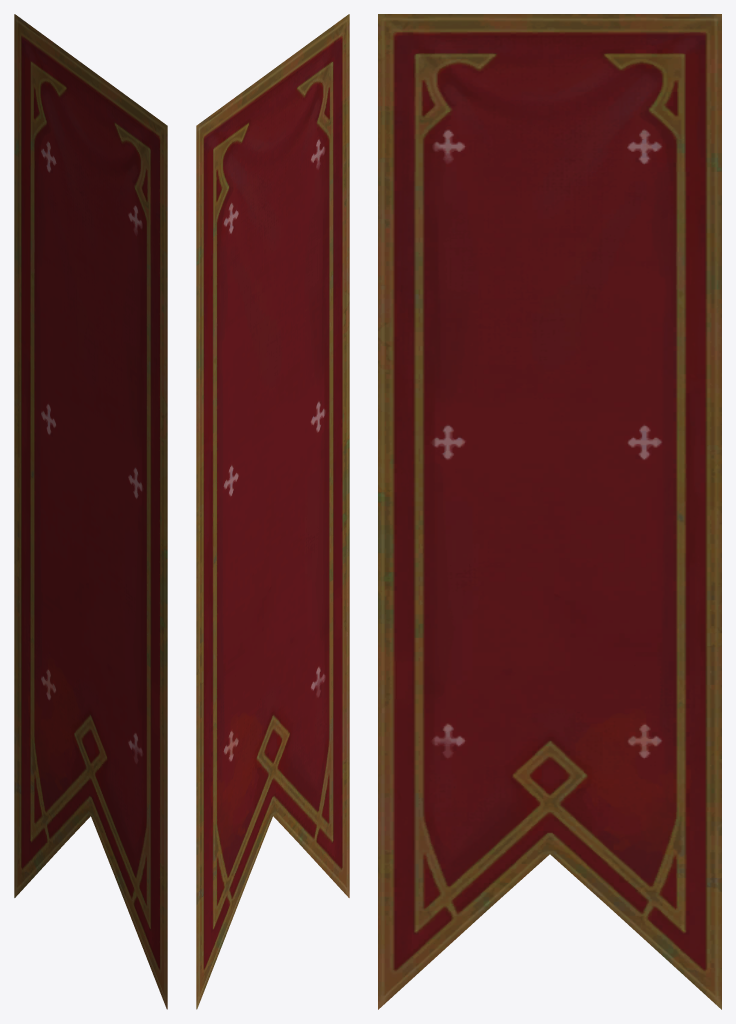
File: Area_MdBuild_Flag03_Vo_1125_0.fbx
3 renders of one model, left to right at view 1: azimuth 30°, elevation 25°; view 2: azimuth 150°, elevation 25°; view 3: azimuth 270°, elevation 25°, orthographic. The views are drawn at different scales.
Parts seen in each view (by area): view 1: Area_MdBuild_Flag03_Vo_1125_0; view 2: Area_MdBuild_Flag03_Vo_1125_0; view 3: Area_MdBuild_Flag03_Vo_1125_0.
Part boxes in pixels (x1=…): Area_MdBuild_Flag03_Vo_1125_0: x1=14, y1=14, x2=167, y2=1009; Area_MdBuild_Flag03_Vo_1125_0: x1=196, y1=14, x2=349, y2=1009; Area_MdBuild_Flag03_Vo_1125_0: x1=378, y1=14, x2=721, y2=1009.
Bounding box in the file's own units: 0.00301 × 5.44 × 1.7.
